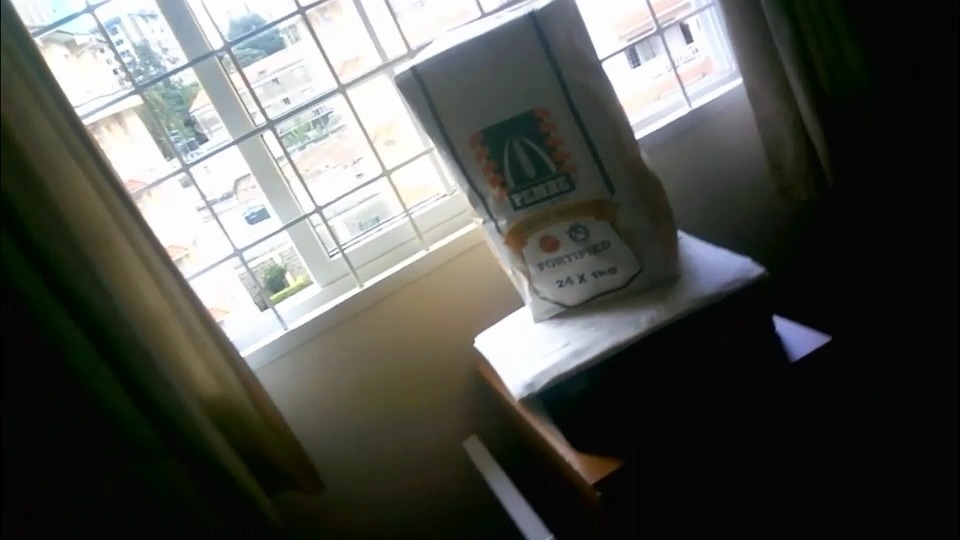maize_flour_green_label: (400, 0, 680, 312)
